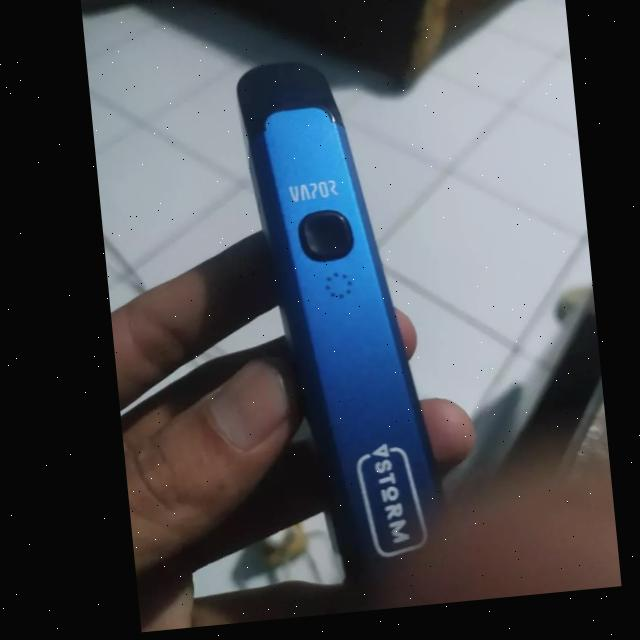vape: (230, 55, 437, 583)
